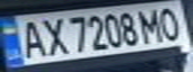0: (103, 10, 124, 48)
2: (84, 11, 109, 51)
7: (66, 12, 90, 53)
8: (118, 9, 142, 46)
A: (12, 17, 48, 60)
M: (136, 7, 166, 44)
O: (154, 4, 187, 42)
X: (36, 15, 69, 56)
